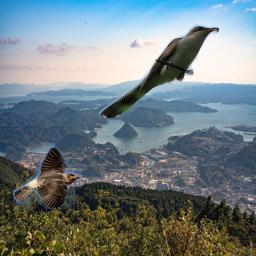Cuckoo: (99, 24, 219, 118)
Swallow: (13, 146, 82, 209)
